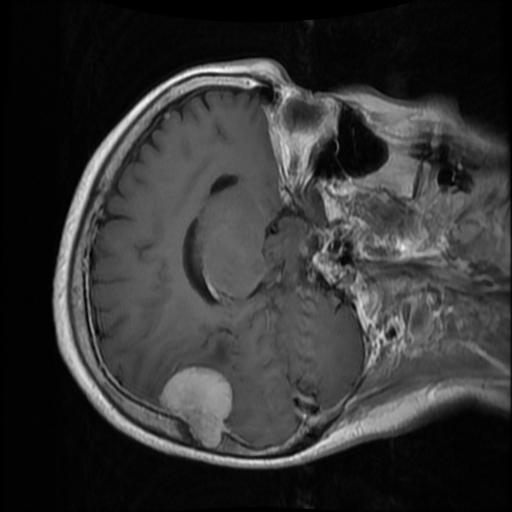meningioma: (159, 367, 235, 447)
